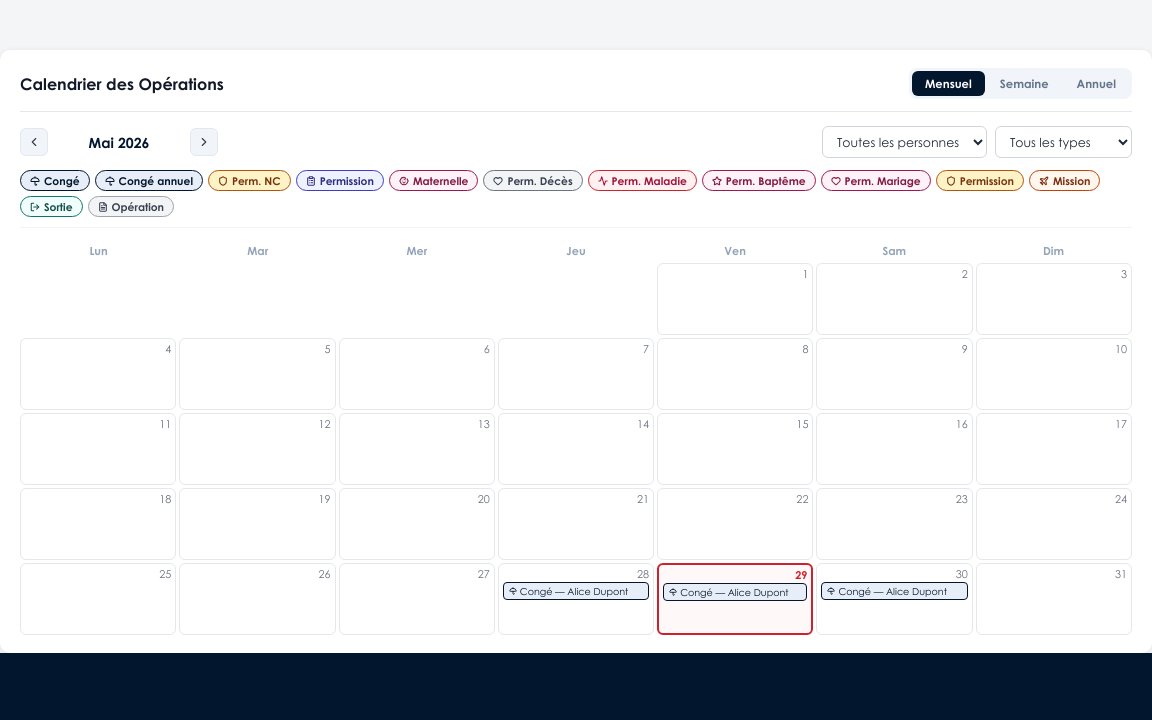
Test: CongeCalendar — detail modal › closes modal when clicking the X button
This screenshot has width=1152, height=720.
Click the button titled "Congé — Alice Dupont" below "28" at (576, 591), box [503,582,649,600]
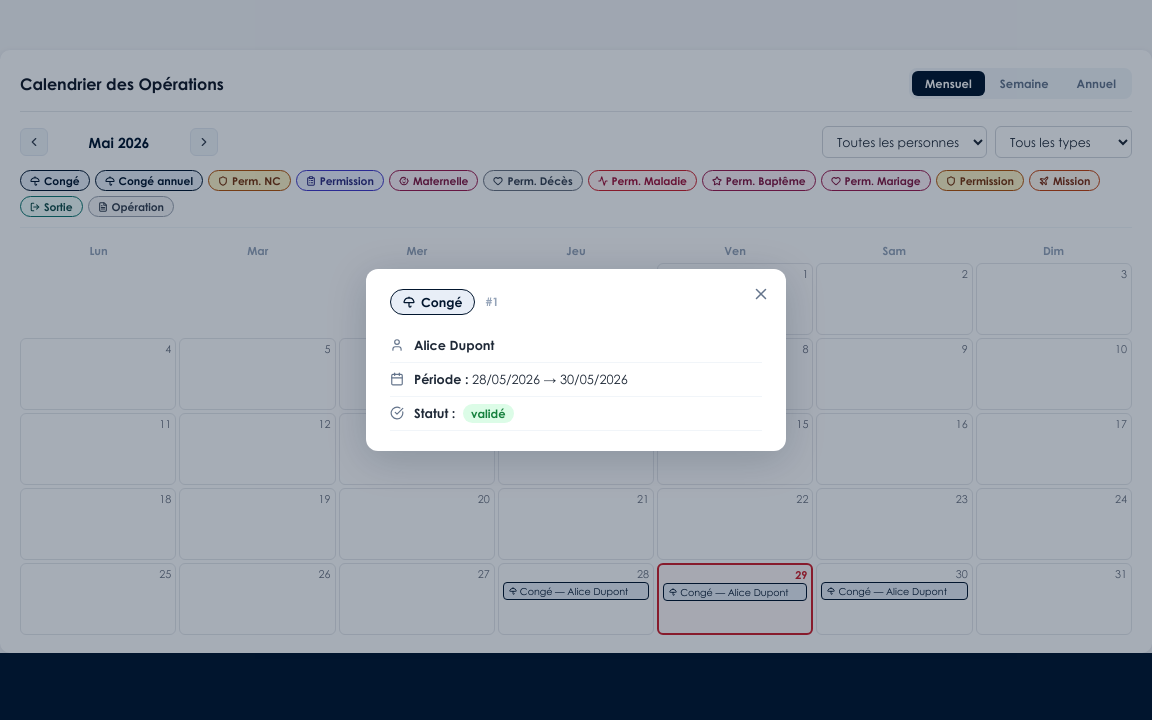
Now the dialog is shown, box [366,269,786,451]
Click the button with test id "modal-close" at (761, 294), box [748,281,774,307]
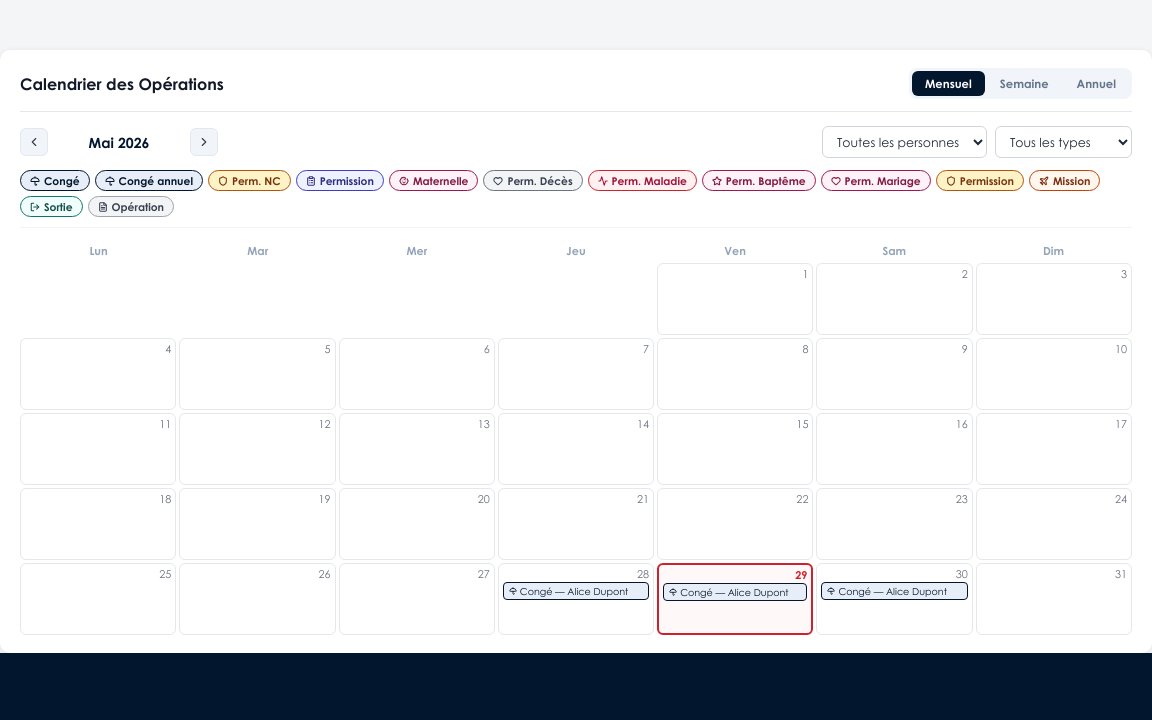
Now the dialog is gone
